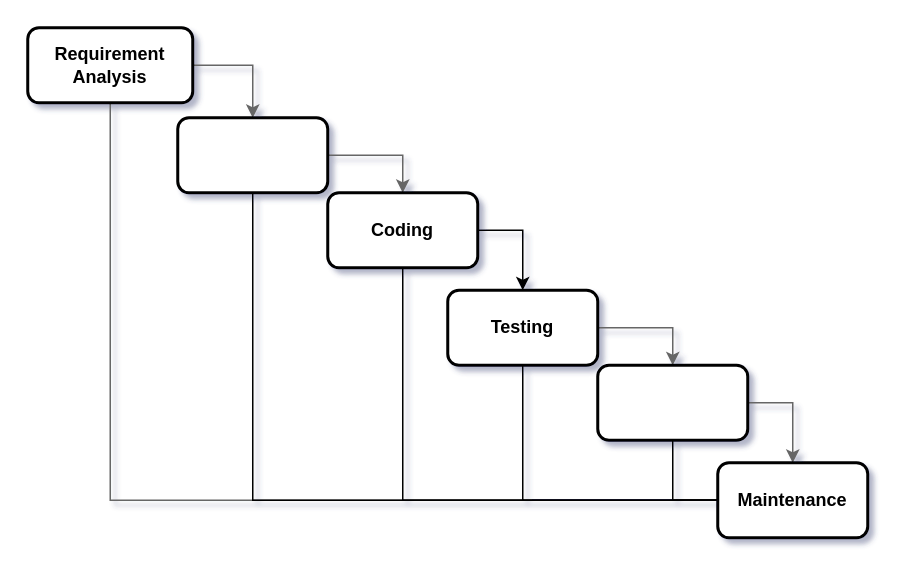
Some shapes in this 903 by 573 pixel diagram are drawn without their labels. The box of each missing label's shape, as (x1, y1, x2, y2) in pixels:
Deployment: (596, 363, 748, 441)
Design: (176, 116, 328, 194)
